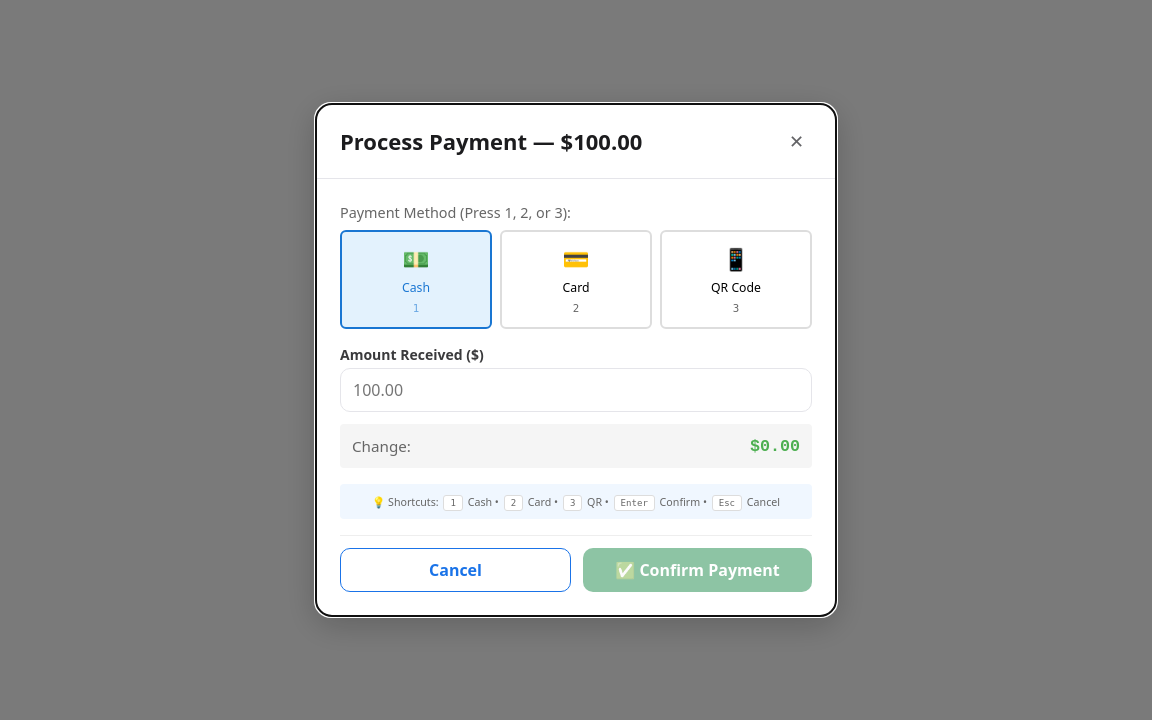
PaymentModalEnhanced › Cash Payment › should display change calculation
In the number field with test id "cash-amount-input": (576, 390) [340, 368, 812, 412], type "150"
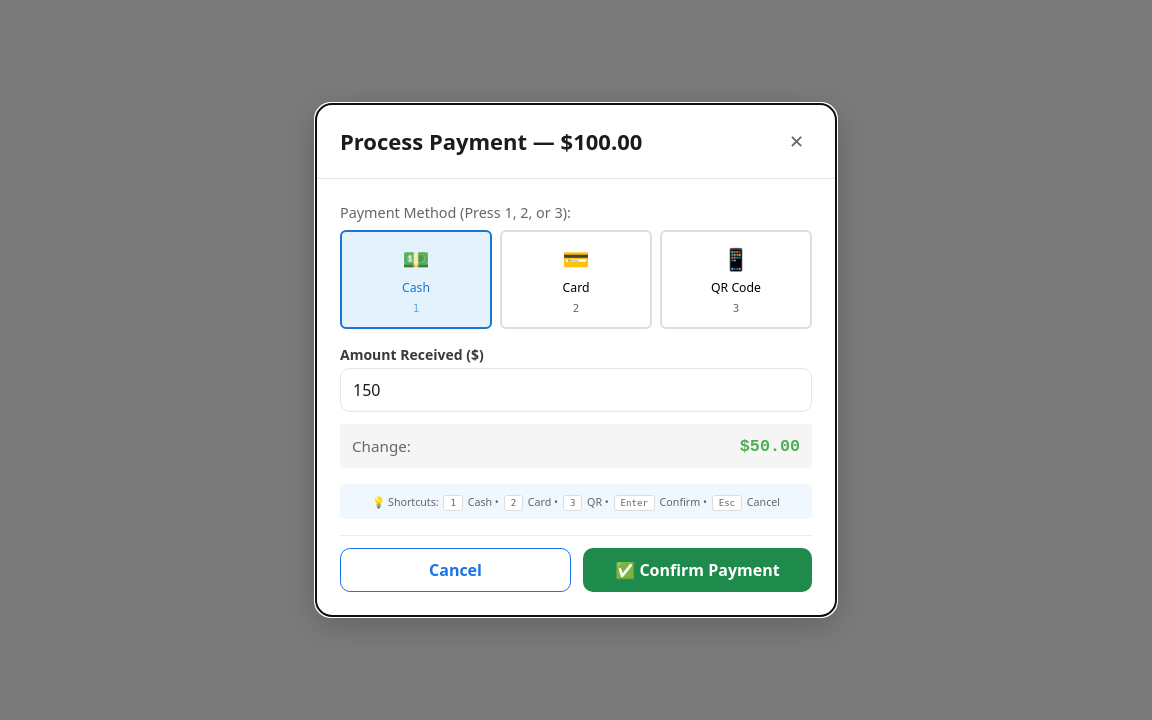
Check: the text with test id "change-amount" reads "$50.00", box [740, 436, 800, 456]
